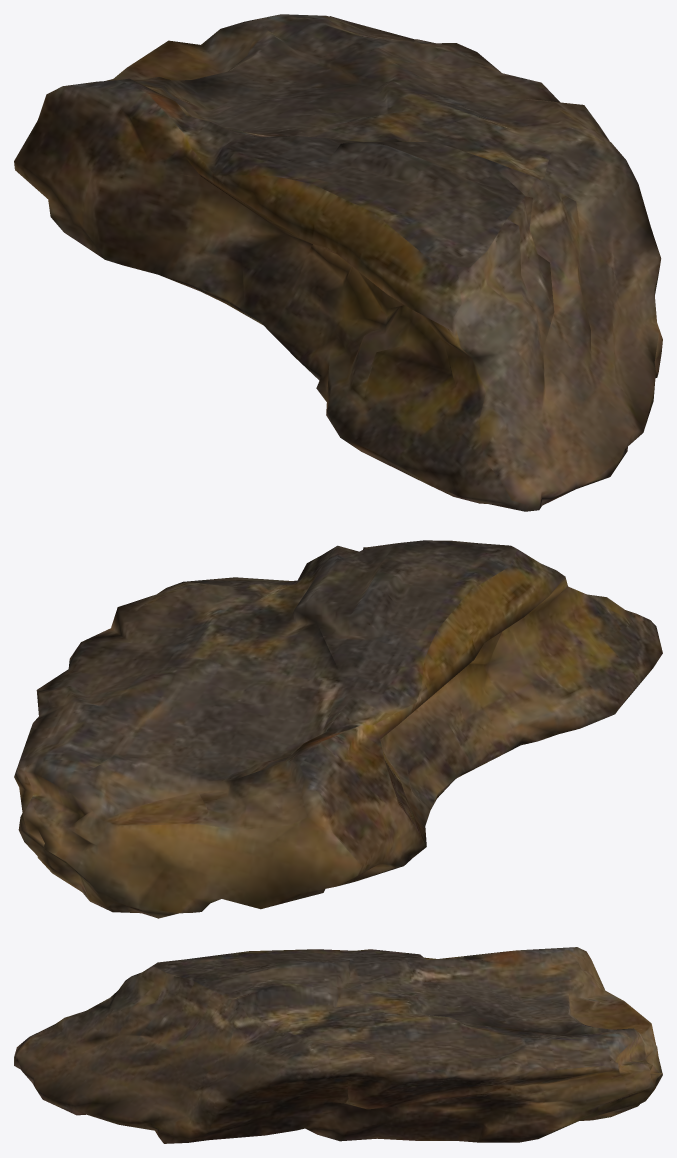
Rendered from rock_09.glb.
The picture shows the model from 3 angles, top to bottom: view 1: azimuth 30°, elevation 25°; view 2: azimuth 150°, elevation 25°; view 3: azimuth 270°, elevation 25°; orthographic projection. The views are drawn at different scales.
Parts seen in each view (by area): view 1: rock_09_LOD0; view 2: rock_09_LOD0; view 3: rock_09_LOD0.
Boxes of the visible parts, <box> form: rock_09_LOD0: <box>14,14,662,511</box>; rock_09_LOD0: <box>14,540,662,918</box>; rock_09_LOD0: <box>14,947,662,1143</box>.
Bounding box in the file's own units: 0.0738 × 0.0326 × 0.1446.
1 material, 1 textured.
